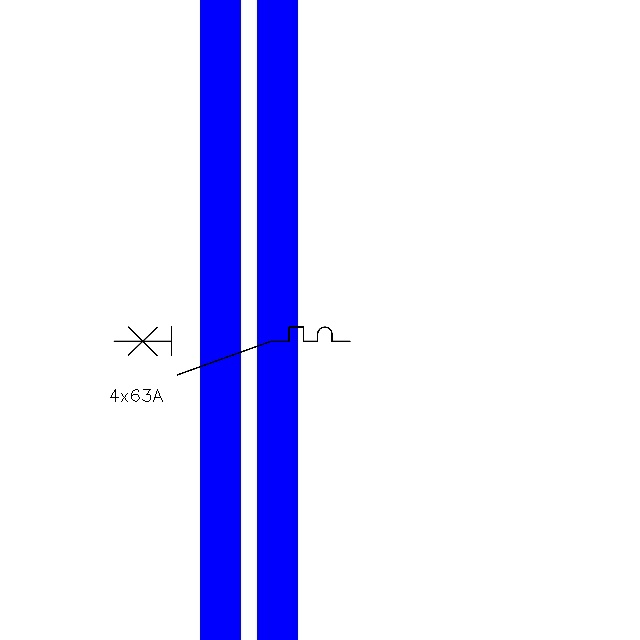interruptor_termomagnetico: (108, 321, 356, 381)
